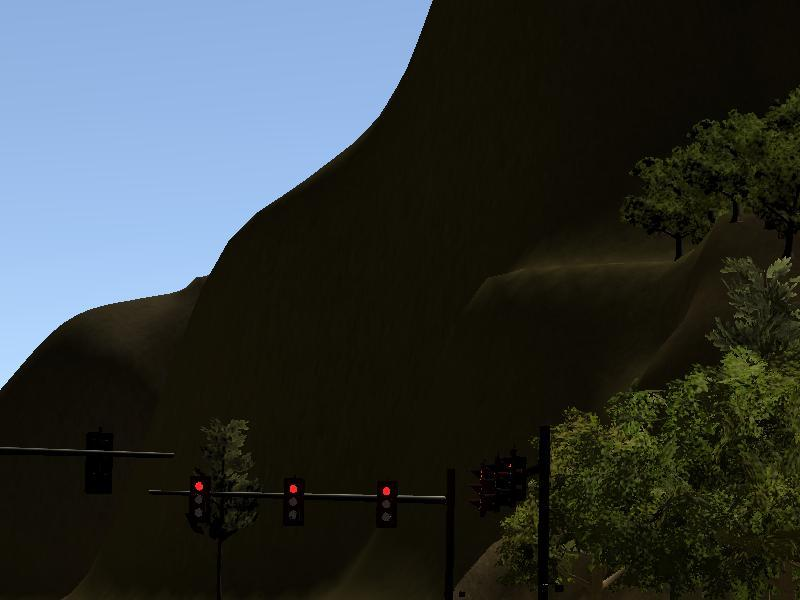Red: (376, 481, 396, 526), (192, 479, 208, 523), (285, 479, 300, 525)
